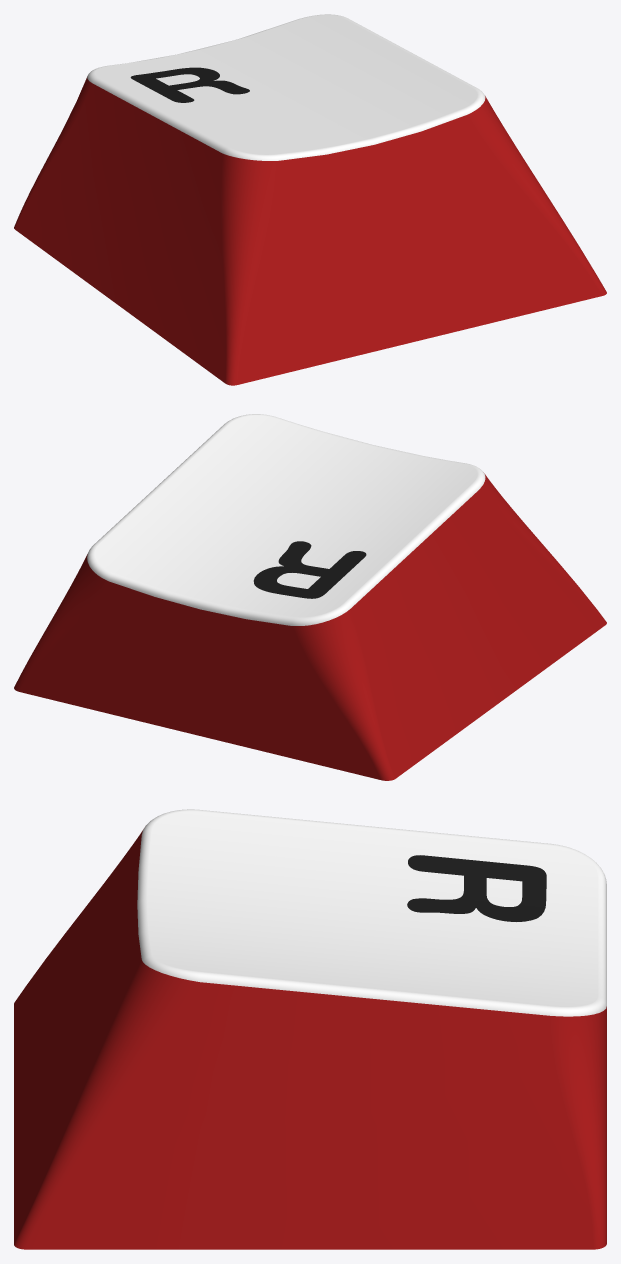
The picture shows the model from 3 angles, top to bottom: view 1: azimuth 30°, elevation 25°; view 2: azimuth 150°, elevation 25°; view 3: azimuth 270°, elevation 25°; orthographic projection. The views are drawn at different scales.
Visible parts, largest first — view 1: Body1; view 2: Body1; view 3: Body1.
Boxes of the visible parts, bbox=[...] form: Body1: bbox=[14, 14, 606, 385]; Body1: bbox=[14, 414, 606, 780]; Body1: bbox=[14, 809, 606, 1249].
Size of the model in its own units: 18 by 7.85 by 18.
